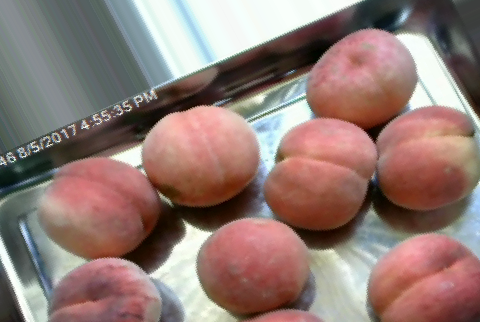Peach: (38, 155, 160, 259), (264, 118, 374, 231), (142, 105, 258, 205), (373, 104, 478, 212), (306, 28, 418, 127), (195, 218, 309, 314), (366, 231, 479, 322), (48, 258, 161, 322)
